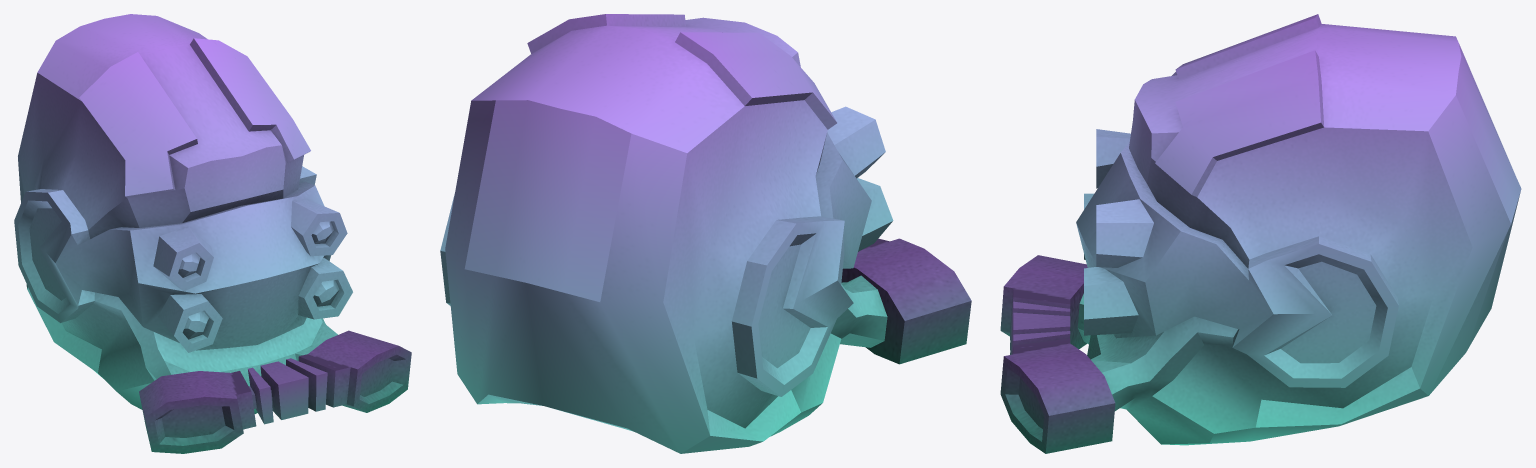
The model's file is helmet_0_solana.glb.
3 views of the same model, side by side, from view 1: azimuth 30°, elevation 25°; view 2: azimuth 150°, elevation 25°; view 3: azimuth 270°, elevation 25° (orthographic). The views are drawn at different scales.
Parts seen in each view (by area): view 1: Helmet; view 2: Helmet; view 3: Helmet.
Boxes of the visible parts, x1,y1,x2,y2 form: Helmet: [14, 14, 411, 453]; Helmet: [440, 14, 971, 453]; Helmet: [1000, 14, 1521, 453].
Bounding box in the file's own units: 0.3496 × 0.4121 × 0.4995.
2 materials, 2 textured.
